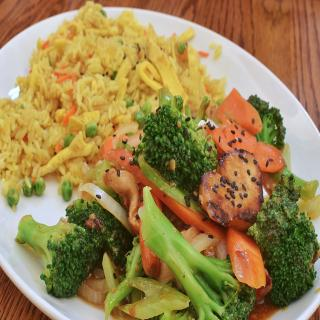Broccoli: (137, 186, 255, 320), (248, 175, 320, 309), (133, 86, 218, 194), (247, 95, 318, 202), (16, 216, 100, 298), (66, 195, 132, 268), (104, 236, 144, 318)
